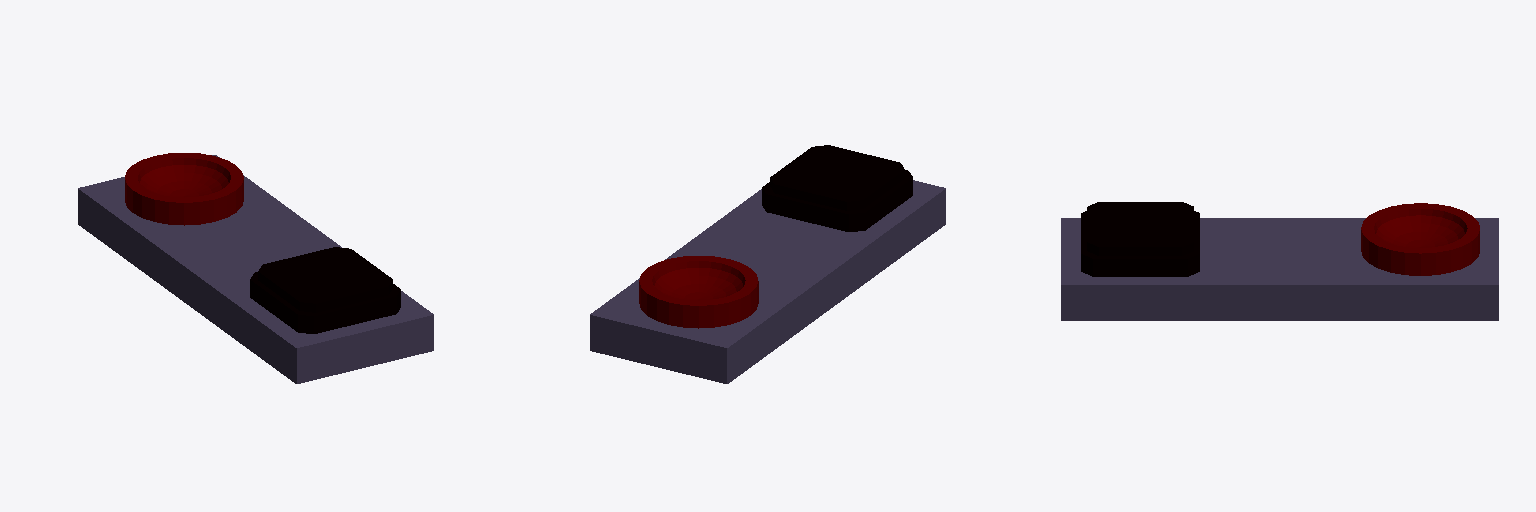
Rendered from Gate-NOT.obj.
3 renders of one model, left to right at view 1: azimuth 30°, elevation 25°; view 2: azimuth 150°, elevation 25°; view 3: azimuth 270°, elevation 25°, orthographic.
Visible parts, largest first — view 1: Handle1, Output1, Inputa1; view 2: Handle1, Output1, Inputa1; view 3: Handle1, Output1, Inputa1.
Part boxes in pixels (left/top/right/bottom): Handle1: left=78, top=155, right=433, bottom=383; Output1: left=250, top=247, right=400, bottom=333; Inputa1: left=125, top=153, right=243, bottom=225; Handle1: left=590, top=180, right=945, bottom=383; Output1: left=762, top=145, right=912, bottom=231; Inputa1: left=639, top=256, right=758, bottom=328; Handle1: left=1061, top=218, right=1498, bottom=320; Output1: left=1081, top=202, right=1199, bottom=276; Inputa1: left=1361, top=203, right=1479, bottom=275.
Bounding box in the file's own units: 0.8 × 0.35 × 2.2.